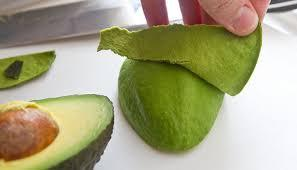Organic: (0, 2, 297, 158)
